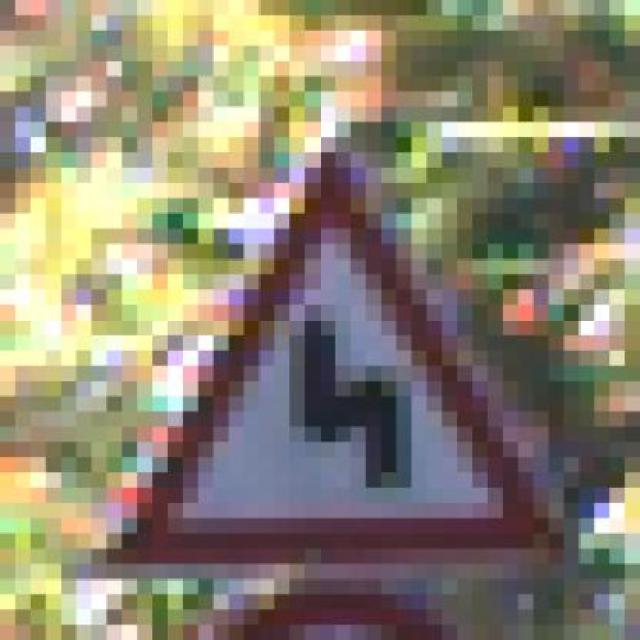Left Zig Zag Traffic: (91, 137, 564, 565)
